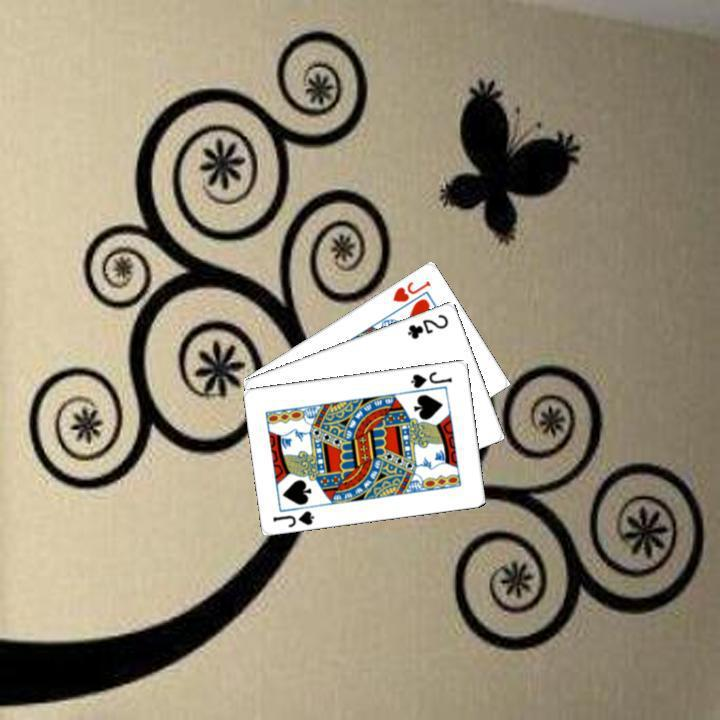2: (403, 309, 451, 341)
J: (388, 276, 433, 304), (406, 366, 454, 390), (269, 506, 316, 529)
